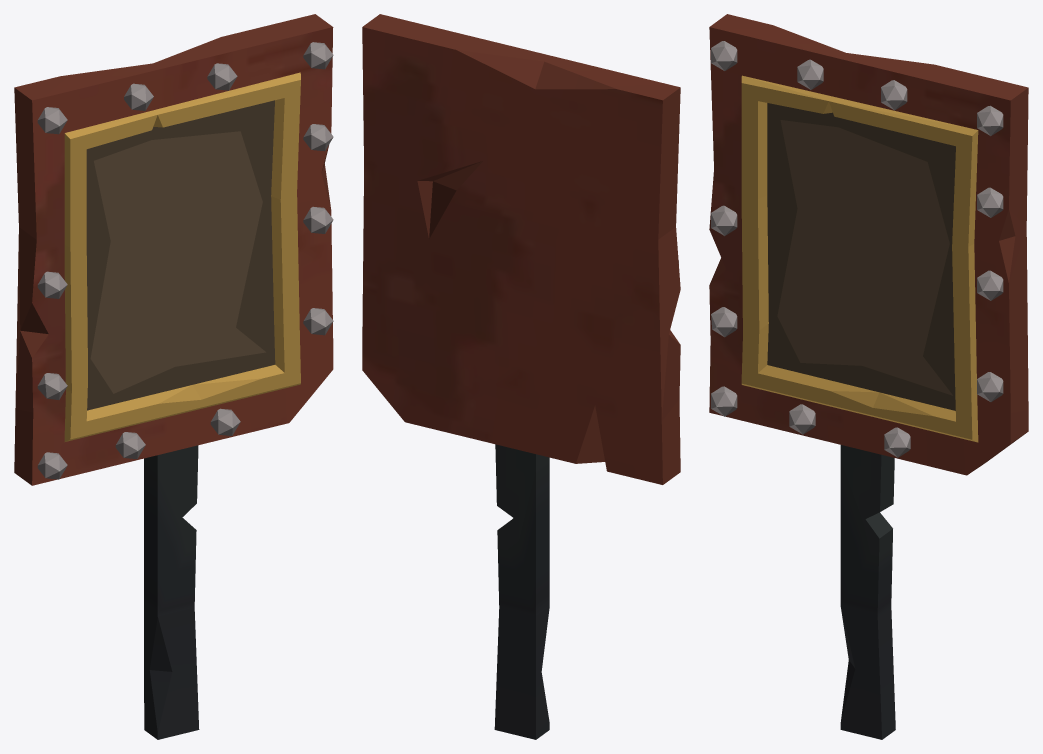
Rendered from SM_Prop_Sign_Neon_03.glb.
3 renders of one model, left to right at view 1: azimuth 30°, elevation 25°; view 2: azimuth 150°, elevation 25°; view 3: azimuth 330°, elevation 25°, orthographic.
Parts seen in each view (by area): view 1: SM_Prop_Sign_Neon_03; view 2: SM_Prop_Sign_Neon_03; view 3: SM_Prop_Sign_Neon_03.
Part boxes in pixels (<box>): SM_Prop_Sign_Neon_03: <box>14,14,333,739</box>; SM_Prop_Sign_Neon_03: <box>362,14,680,739</box>; SM_Prop_Sign_Neon_03: <box>709,14,1028,739</box>.
Size of the model in its own units: 79.87 by 171 by 12.91.
1 material, 1 textured.
